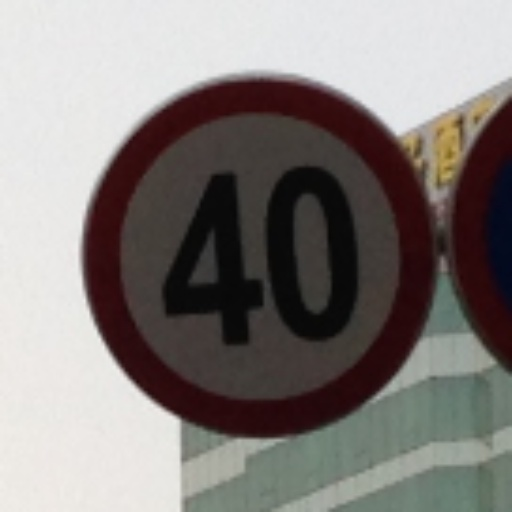Speed limit: (77, 70, 434, 417)
